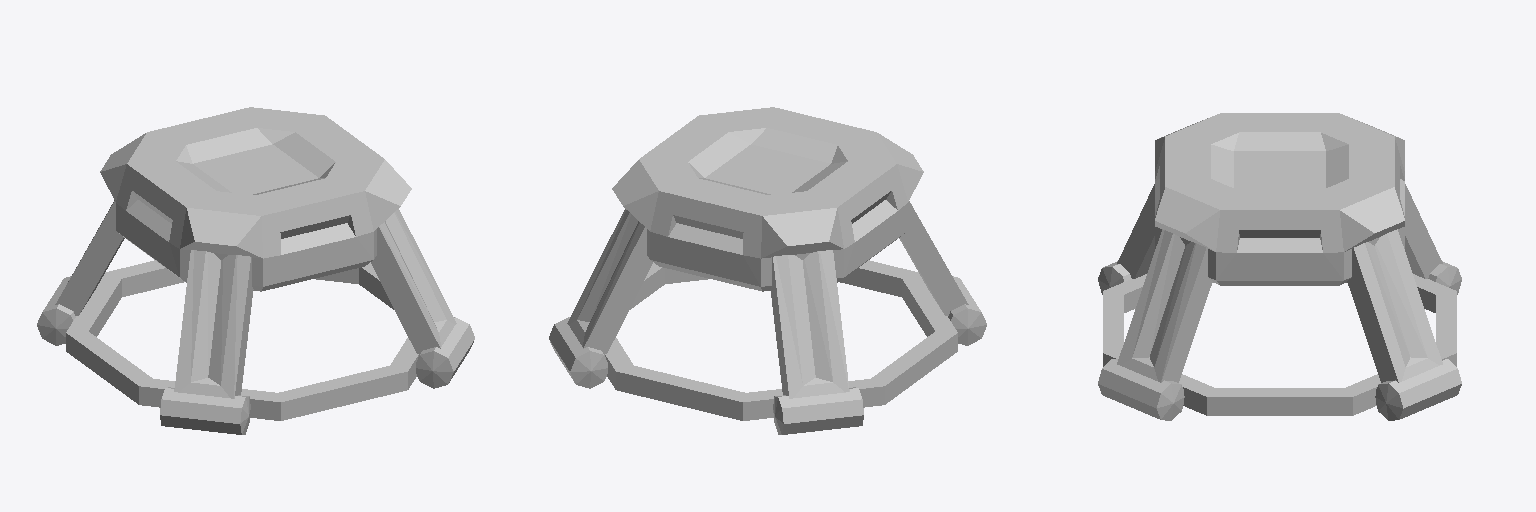
Rendered from structure_low.obj.
The picture shows the model from 3 angles: view 1: azimuth 30°, elevation 25°; view 2: azimuth 150°, elevation 25°; view 3: azimuth 270°, elevation 25°; orthographic projection.
Visible parts, largest first — view 1: structure_low_Cylinder.2729; view 2: structure_low_Cylinder.2729; view 3: structure_low_Cylinder.2729.
Boxes of the visible parts, x1,y1,x2,y2 form: structure_low_Cylinder.2729: [37, 107, 474, 434]; structure_low_Cylinder.2729: [549, 107, 986, 434]; structure_low_Cylinder.2729: [1098, 113, 1461, 420].
Bounding box in the file's own units: 1.75 × 1 × 1.75.